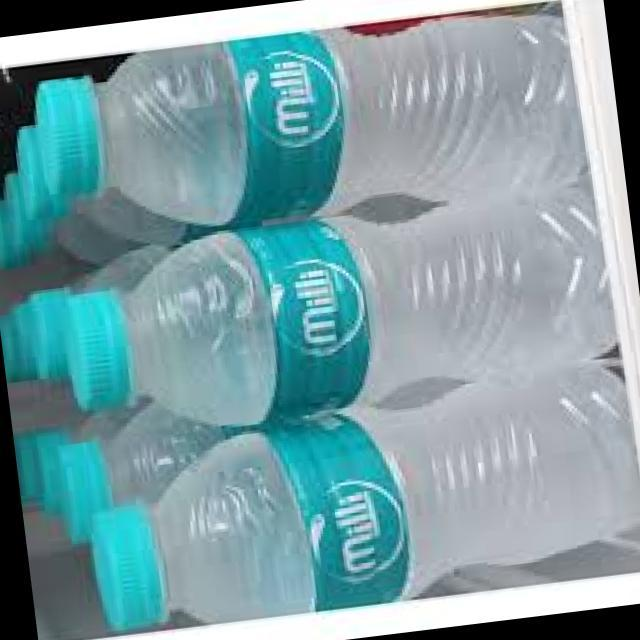good: (73, 346, 640, 640), (56, 178, 622, 442), (34, 0, 582, 222), (8, 34, 554, 246), (28, 352, 523, 560), (23, 202, 515, 390)
